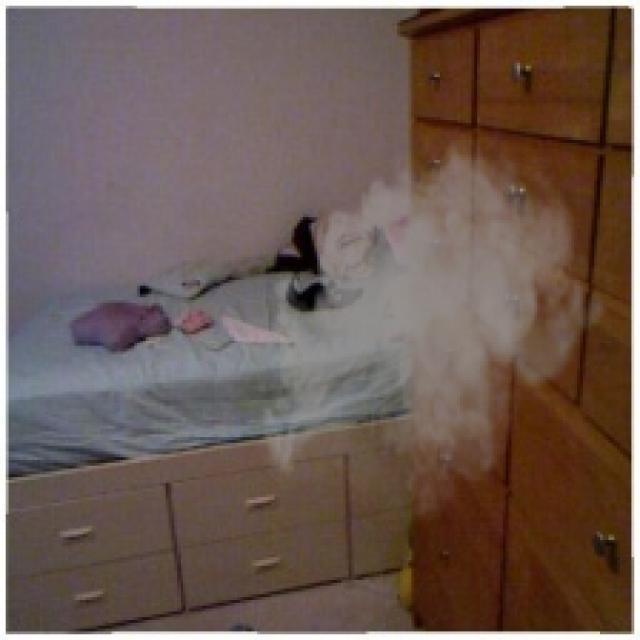Smoke: (252, 123, 608, 543)
